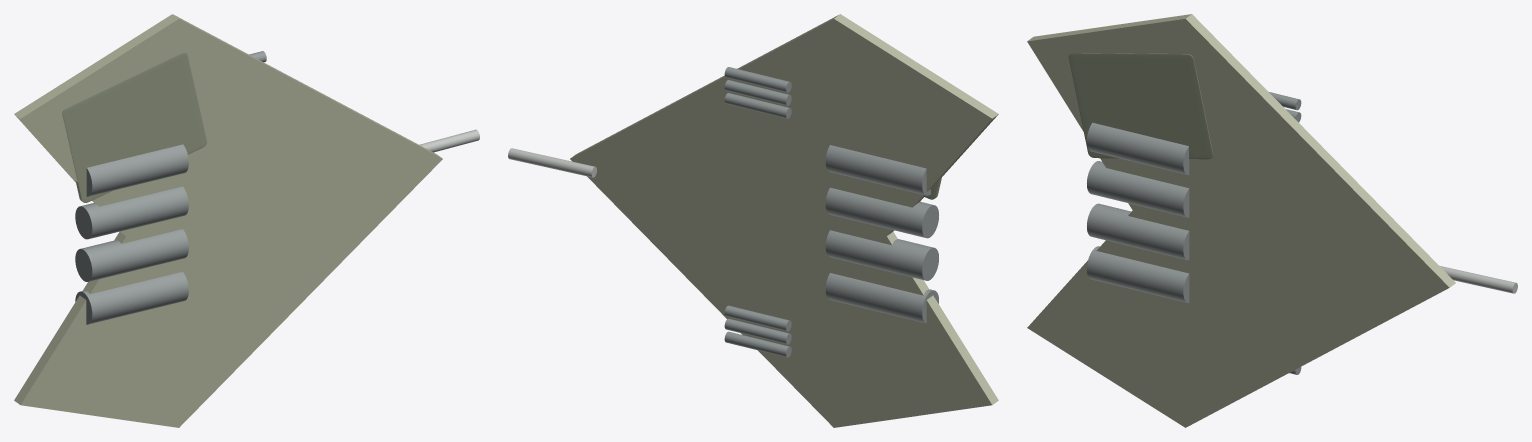
The model's file is v-u27-vanguard-heavy-bomber-lod2.glb.
3 renders of one model, left to right at view 1: azimuth 30°, elevation 25°; view 2: azimuth 150°, elevation 25°; view 3: azimuth 330°, elevation 25°, orthographic.
Visible parts, largest first — view 1: flying_wing_planform, flying_wing_elevon_1, flying_wing_engine_1, flying_wing_engine_2, flying_wing_engine_0, flying_wing_engine_3, flying_wing_gun_barrel_0; view 2: flying_wing_planform, flying_wing_engine_1, flying_wing_engine_2, flying_wing_engine_0, flying_wing_engine_3, flying_wing_gun_barrel_0, flying_wing_-1_tube_2, flying_wing_-1_tube_1, flying_wing_-1_tube_3, flying_wing_1_tube_3, flying_wing_1_tube_1, flying_wing_1_tube_2; view 3: flying_wing_planform, flying_wing_elevon_1, flying_wing_engine_1, flying_wing_engine_2, flying_wing_engine_0, flying_wing_engine_3, flying_wing_gun_barrel_0.
Part boxes in pixels (x1=…): flying_wing_planform: x1=14, y1=14, x2=442, y2=427; flying_wing_elevon_1: x1=62, y1=52, x2=206, y2=202; flying_wing_engine_1: x1=75, y1=229, x2=188, y2=281; flying_wing_engine_2: x1=75, y1=186, x2=188, y2=239; flying_wing_engine_0: x1=75, y1=271, x2=188, y2=324; flying_wing_engine_3: x1=86, y1=144, x2=188, y2=196; flying_wing_gun_barrel_0: x1=419, y1=129, x2=479, y2=152; flying_wing_planform: x1=570, y1=14, x2=998, y2=427; flying_wing_engine_1: x1=825, y1=230, x2=938, y2=280; flying_wing_engine_2: x1=825, y1=187, x2=938, y2=238; flying_wing_engine_0: x1=825, y1=273, x2=938, y2=323; flying_wing_engine_3: x1=825, y1=145, x2=930, y2=195; flying_wing_gun_barrel_0: x1=508, y1=148, x2=596, y2=177; flying_wing_-1_tube_2: x1=724, y1=318, x2=791, y2=344; flying_wing_-1_tube_1: x1=724, y1=331, x2=791, y2=357; flying_wing_-1_tube_3: x1=724, y1=305, x2=791, y2=331; flying_wing_1_tube_3: x1=724, y1=67, x2=791, y2=92; flying_wing_1_tube_1: x1=724, y1=93, x2=791, y2=118; flying_wing_1_tube_2: x1=724, y1=80, x2=791, y2=105; flying_wing_planform: x1=1027, y1=14, x2=1455, y2=427; flying_wing_elevon_1: x1=1068, y1=53, x2=1213, y2=159; flying_wing_engine_1: x1=1087, y1=203, x2=1189, y2=260; flying_wing_engine_2: x1=1087, y1=161, x2=1189, y2=217; flying_wing_engine_0: x1=1087, y1=246, x2=1189, y2=302; flying_wing_engine_3: x1=1087, y1=122, x2=1189, y2=174; flying_wing_gun_barrel_0: x1=1439, y1=265, x2=1517, y2=293.
Size of what is drawn, in the model's own units: 18.65 by 15.43 by 1.69.
